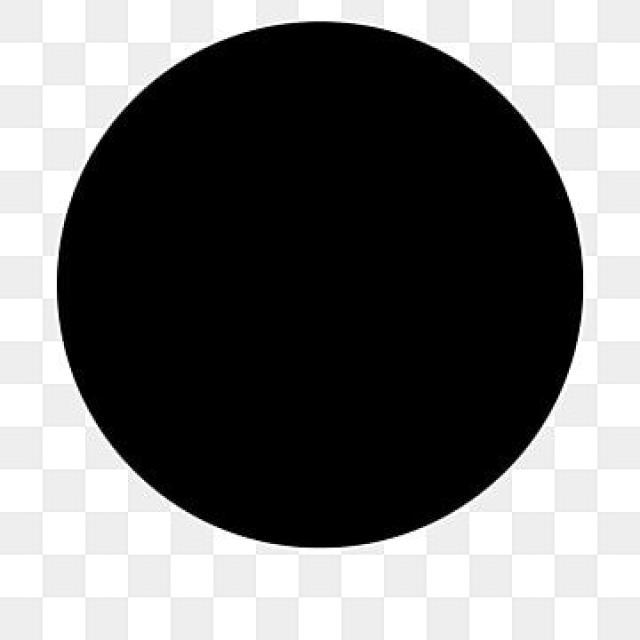Circle: (48, 7, 593, 565)
